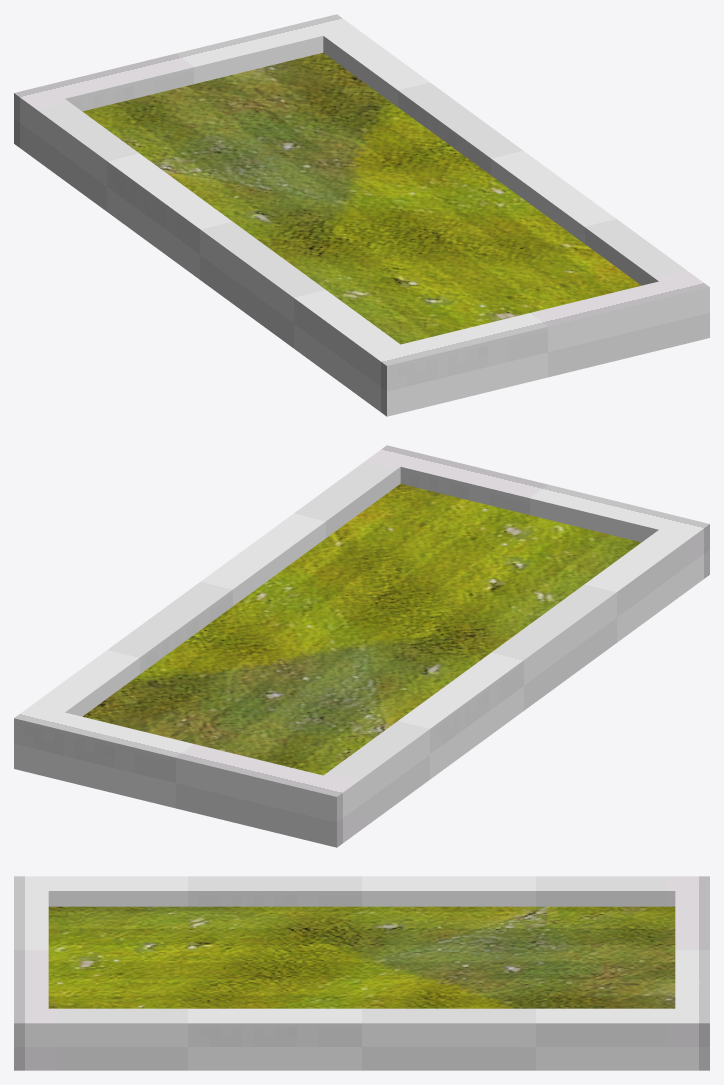
The model's file is Pre_PlanterA.FBX.
3 renders of one model, top to bottom at view 1: azimuth 30°, elevation 25°; view 2: azimuth 150°, elevation 25°; view 3: azimuth 270°, elevation 25°, orthographic. The views are drawn at different scales.
Parts seen in each view (by area): view 1: Pre_PlanterA; view 2: Pre_PlanterA; view 3: Pre_PlanterA.
Boxes of the visible parts, <box> form: Pre_PlanterA: <box>14,14,709,416</box>; Pre_PlanterA: <box>14,445,709,847</box>; Pre_PlanterA: <box>14,876,709,1070</box>.
Size of the model in its own units: 5 by 0.75 by 10.
